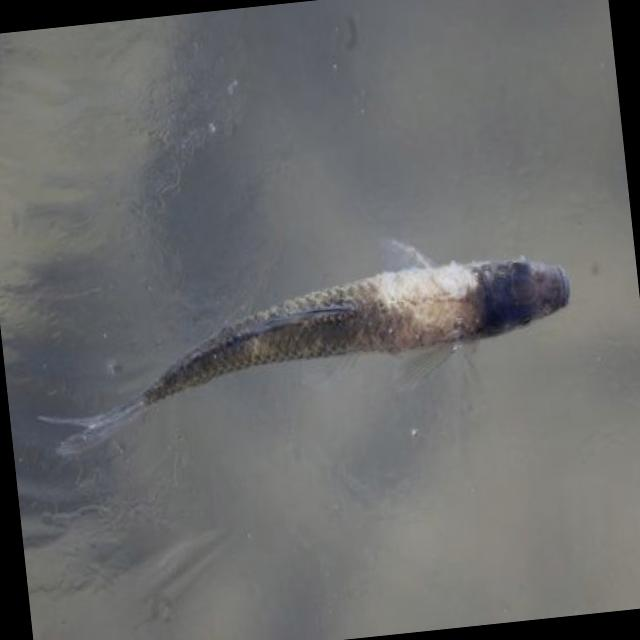Cakil Baligi: (22, 209, 584, 468)
